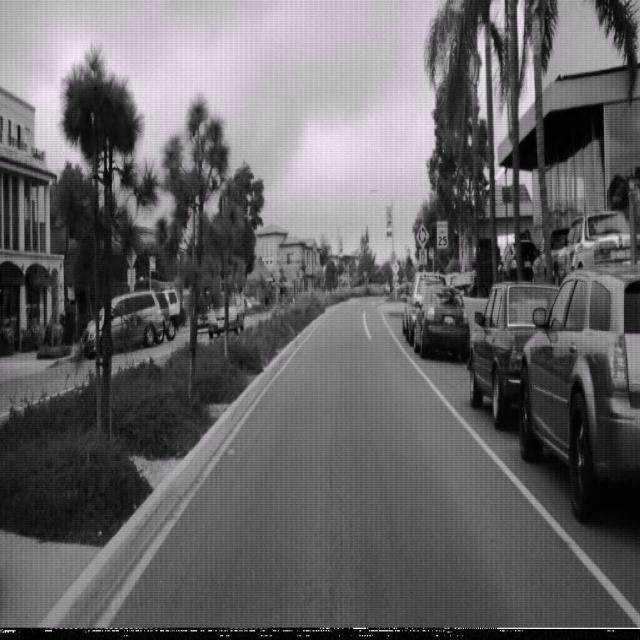speedLimit25: (436, 220, 448, 250)
